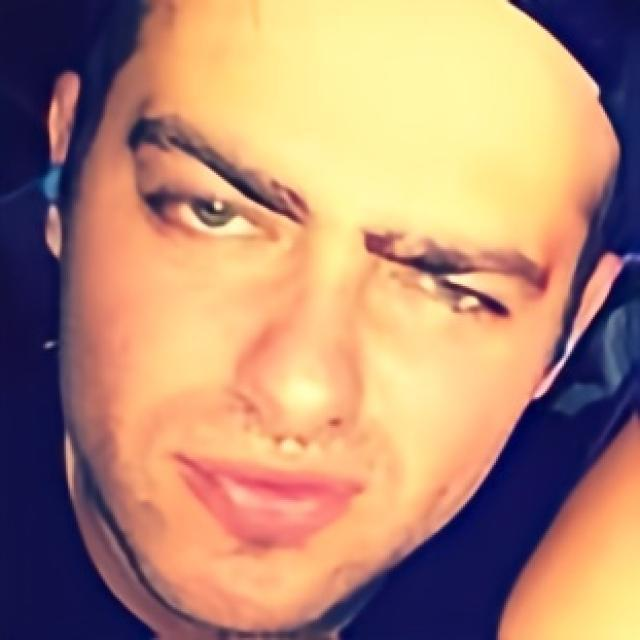anger: (65, 14, 548, 605)
